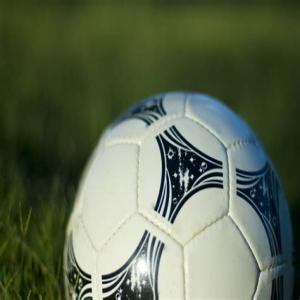Football: (58, 91, 300, 300)
